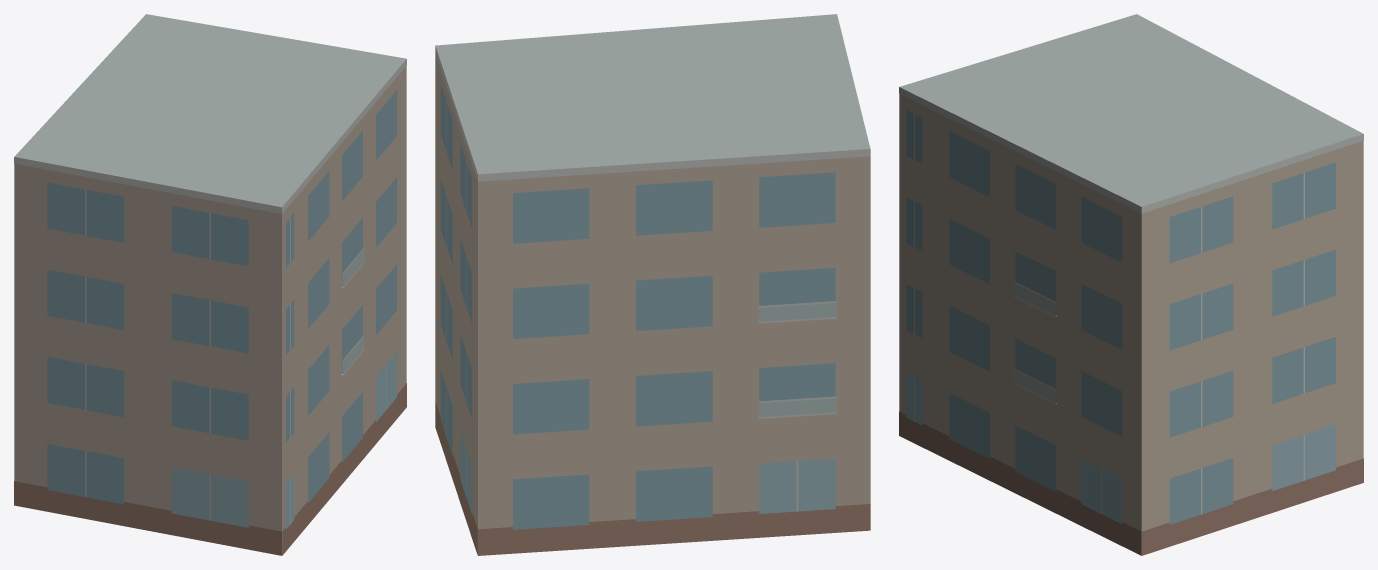
File: survey-upis-32911393.glb
3 renders of one model, left to right at view 1: azimuth 30°, elevation 25°; view 2: azimuth 150°, elevation 25°; view 3: azimuth 270°, elevation 25°, orthographic. The views are drawn at different scales.
Visible parts, largest first — view 1: survey-upis-32911393.tmp; view 2: survey-upis-32911393.tmp; view 3: survey-upis-32911393.tmp.
Boxes of the visible parts, bbox=[...] form: survey-upis-32911393.tmp: bbox=[14, 14, 406, 555]; survey-upis-32911393.tmp: bbox=[435, 14, 870, 555]; survey-upis-32911393.tmp: bbox=[899, 14, 1363, 555].
Size of the model in its own units: 15.07 by 12.7 by 15.33.
